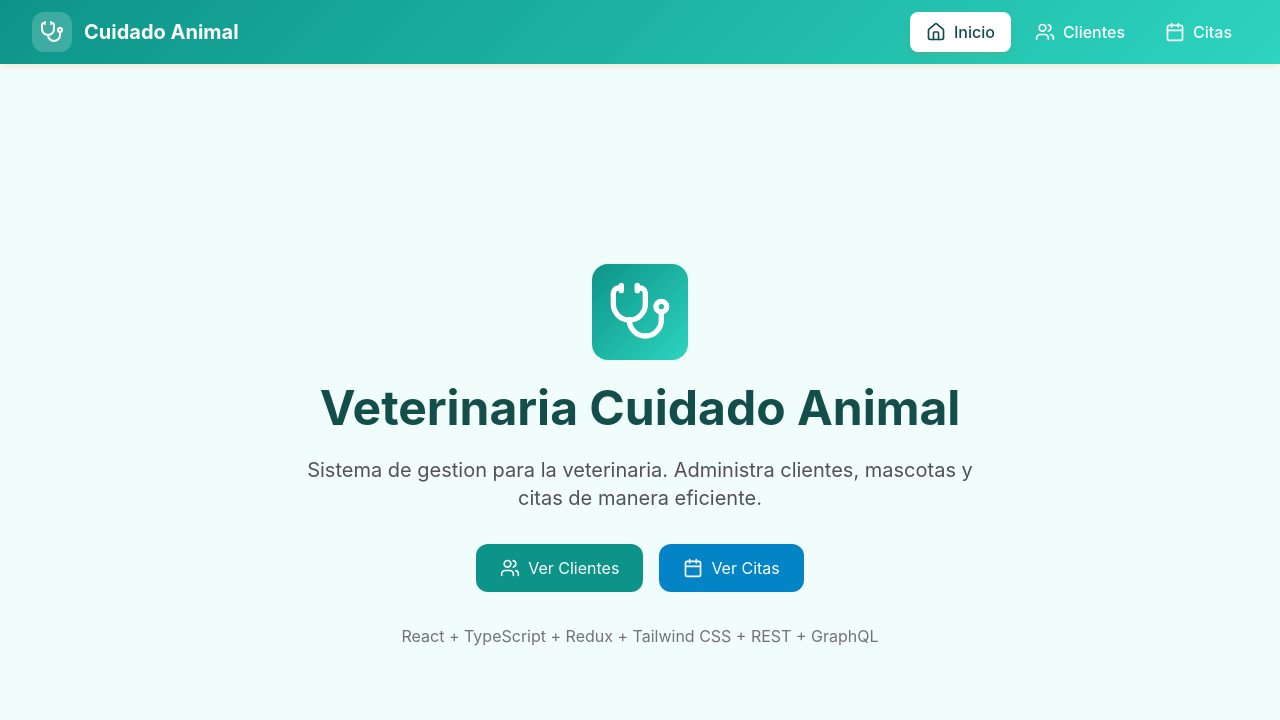
Test: Navigation › navigates to appointments page from home
Click the link "Ver Citas": (731, 568) [659,544,803,592]
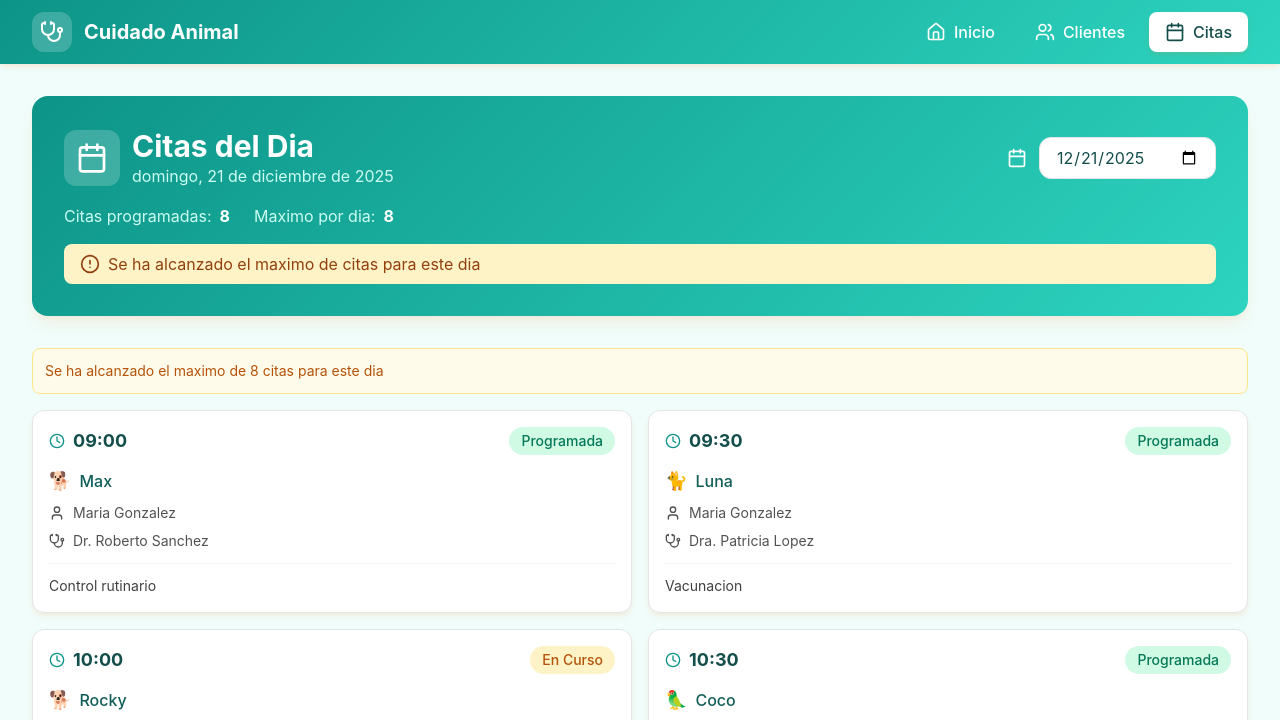
Now the heading "Citas del Dia" is shown, box [132,128,314,164]
